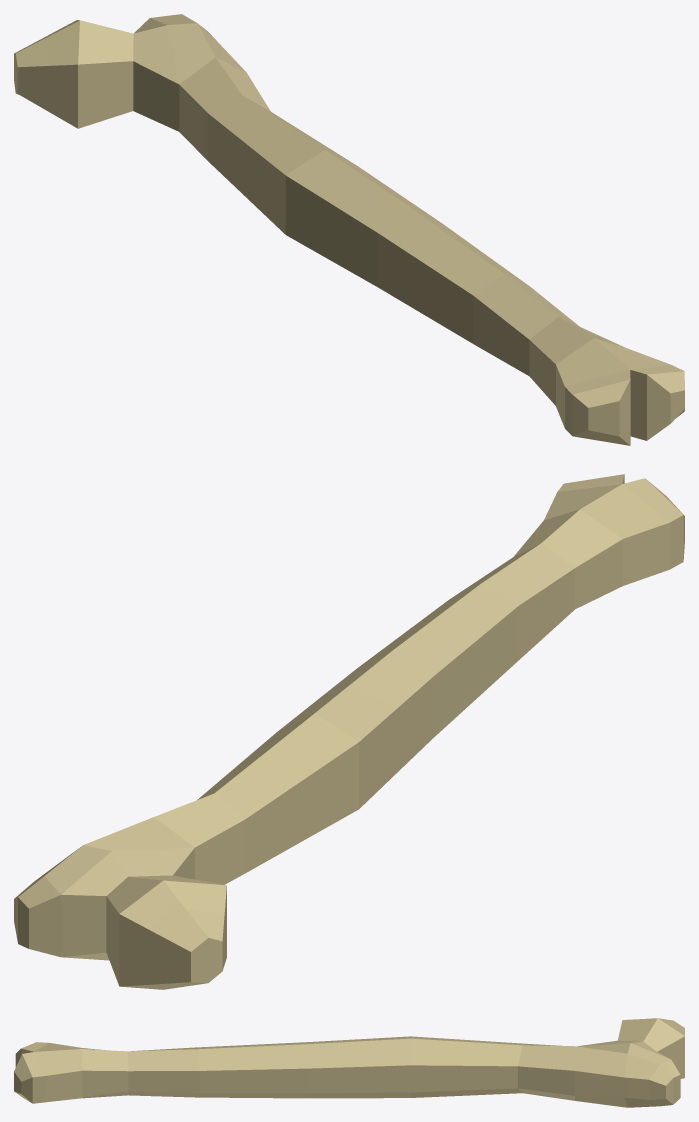
The model's file is Bone.fbx.
3 renders of one model, top to bottom at view 1: azimuth 30°, elevation 25°; view 2: azimuth 150°, elevation 25°; view 3: azimuth 270°, elevation 25°, orthographic. The views are drawn at different scales.
Visible parts, largest first — view 1: Bone; view 2: Bone; view 3: Bone.
Boxes of the visible parts, x1,y1,x2,y2 form: Bone: (14,14,684,445); Bone: (14,474,684,989); Bone: (14,1018,684,1107).
Bounding box in the file's own units: 8.85 × 4.47 × 43.05.
Materials: 1 (1 with a texture image).
